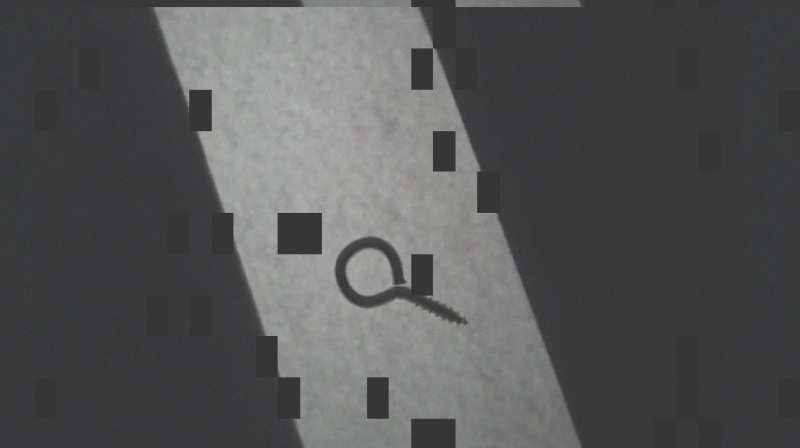O001: (324, 233, 471, 328)
